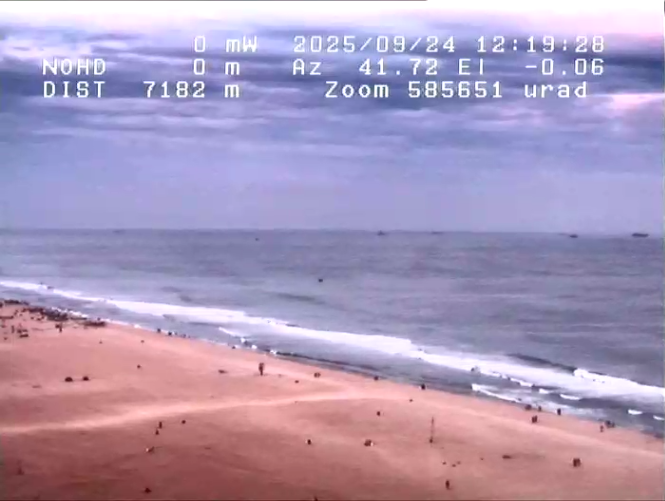TANKER: (625, 227, 652, 246)
